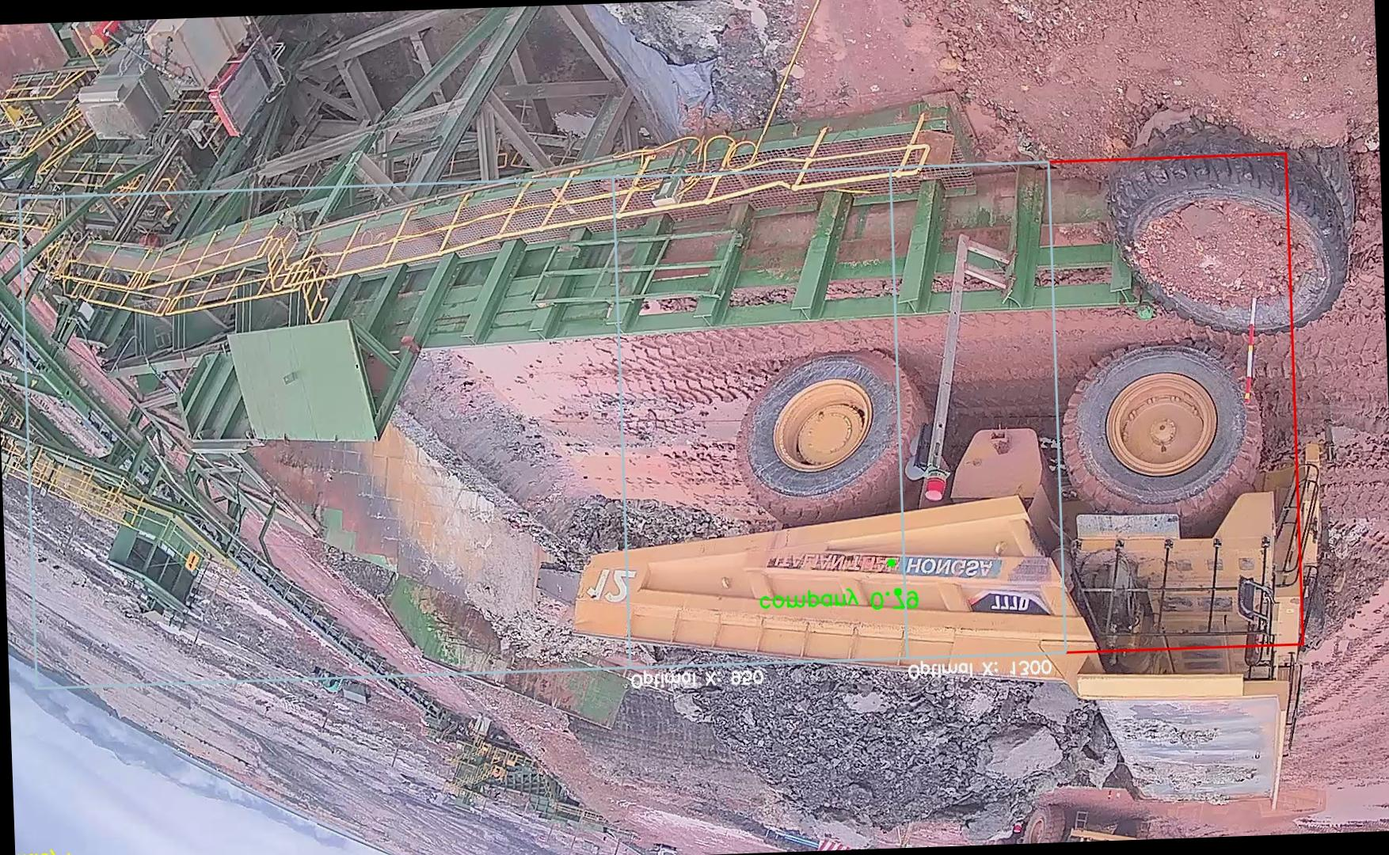company: (756, 538, 1011, 591)
full_load: (691, 640, 1060, 849)
mining_truck: (557, 334, 1345, 855)
tail_number: (576, 551, 650, 612)
truck_size: (958, 585, 1059, 624)
